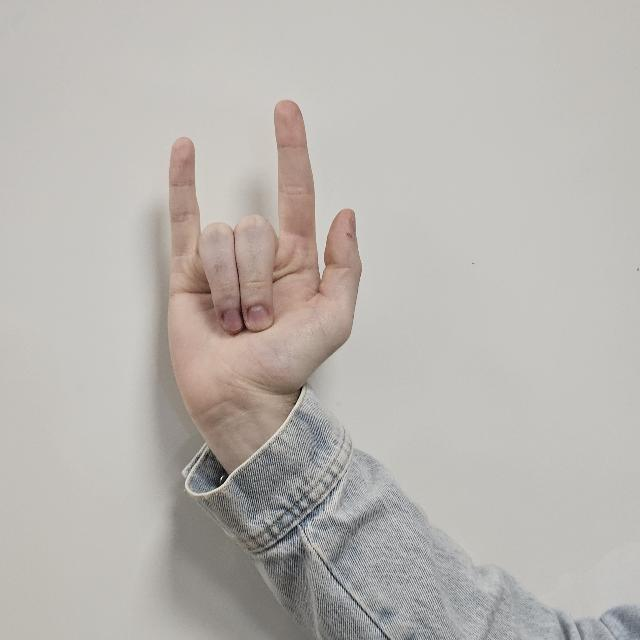L: (166, 102, 360, 432)
